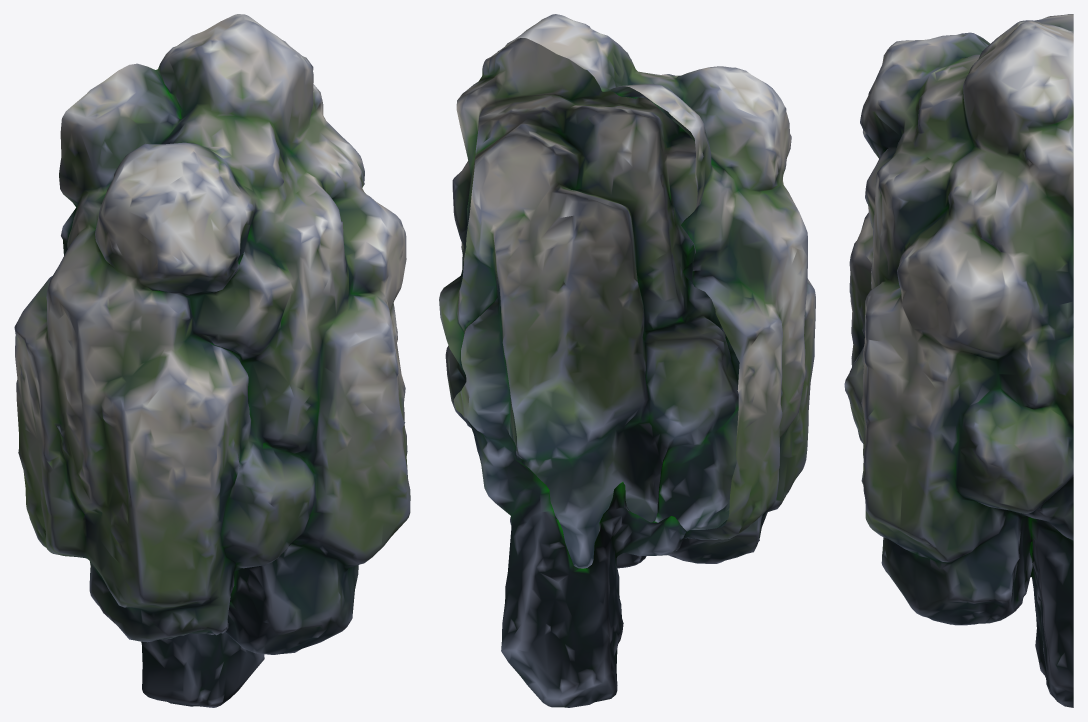
File: M_Cliff_Rock_T5.fbx
3 renders of one model, left to right at view 1: azimuth 30°, elevation 25°; view 2: azimuth 150°, elevation 25°; view 3: azimuth 270°, elevation 25°, orthographic. The views are drawn at different scales.
Visible parts, largest first — view 1: M_Cliff_Rock_T5; view 2: M_Cliff_Rock_T5; view 3: M_Cliff_Rock_T5.
Boxes of the visible parts, <box> form: M_Cliff_Rock_T5: <box>14,14,410,707</box>; M_Cliff_Rock_T5: <box>439,14,815,707</box>; M_Cliff_Rock_T5: <box>844,14,1073,707</box>.
Size of the model in its own units: 12.29 by 23.53 by 7.15.
